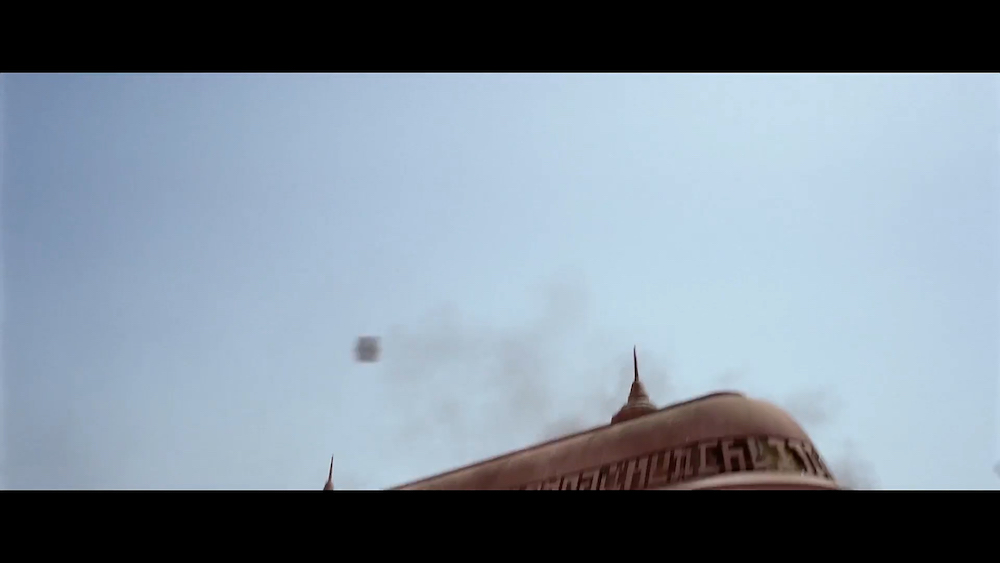Tie Fighter: (349, 333, 381, 367)
